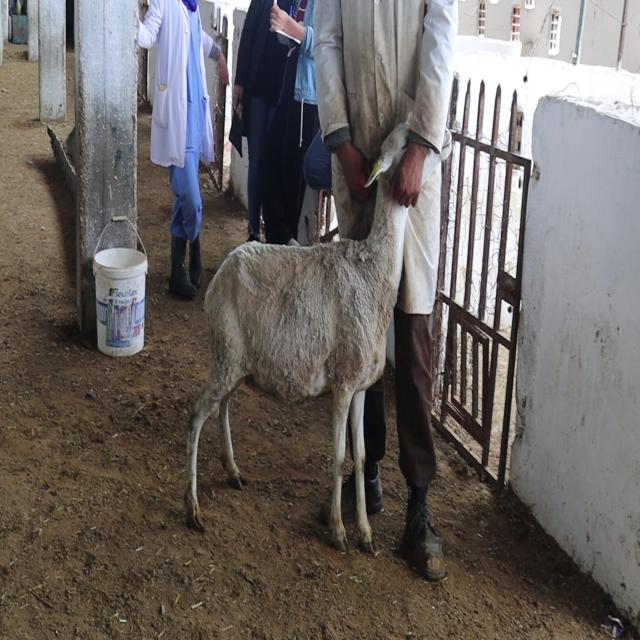Score_1: (185, 122, 409, 551)
